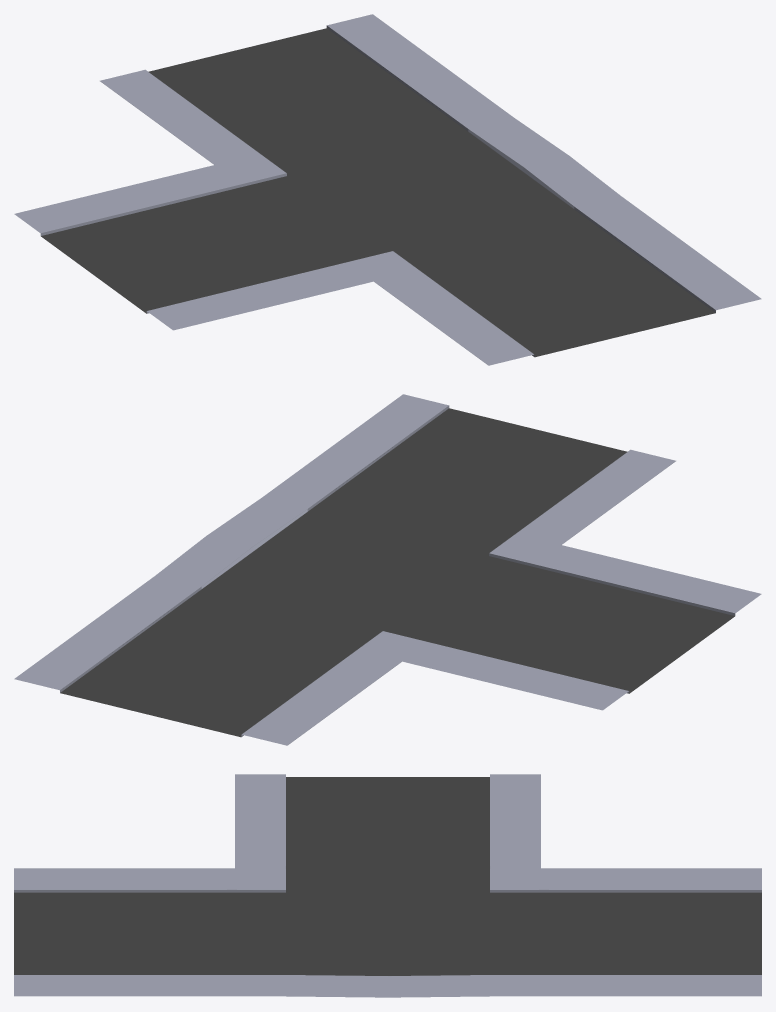
File: 3Way.fbx
The picture shows the model from 3 angles, top to bottom: view 1: azimuth 30°, elevation 25°; view 2: azimuth 150°, elevation 25°; view 3: azimuth 270°, elevation 25°; orthographic projection. The views are drawn at different scales.
Visible parts, largest first — view 1: 3Way; view 2: 3Way; view 3: 3Way.
Boxes of the visible parts, bbox=[...] form: 3Way: bbox=[14, 14, 761, 365]; 3Way: bbox=[14, 394, 761, 745]; 3Way: bbox=[14, 774, 761, 997].
Bounding box in the file's own units: 15.54 × 0.0877 × 22.
